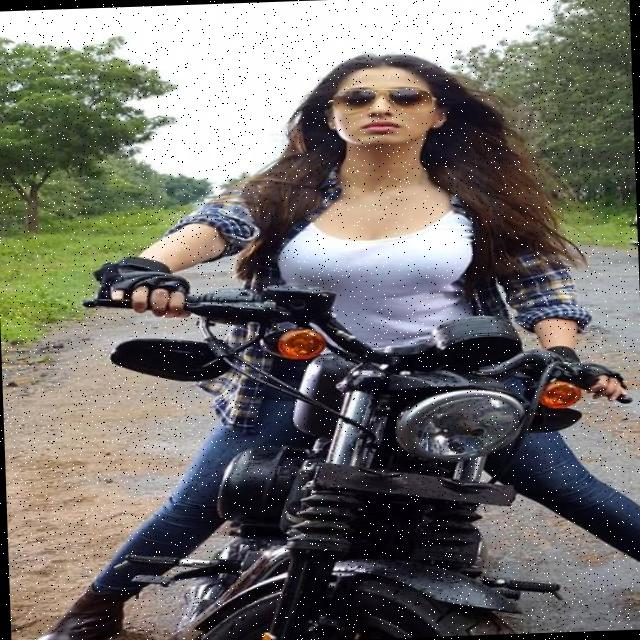No helmet: (302, 44, 473, 192)
